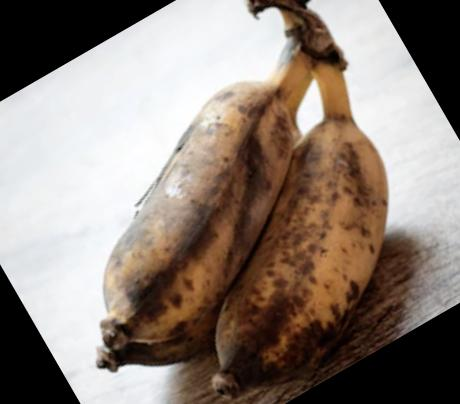Banana Overripe: (89, 0, 385, 404)
